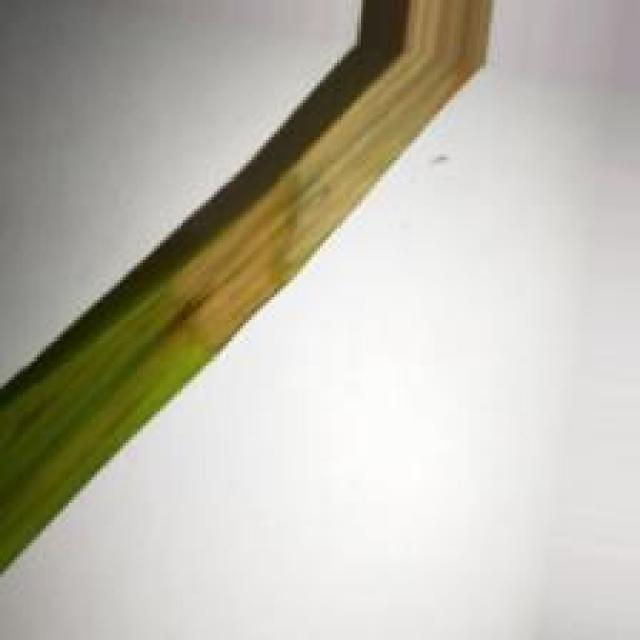Leaf_Scald: (175, 50, 486, 346)
